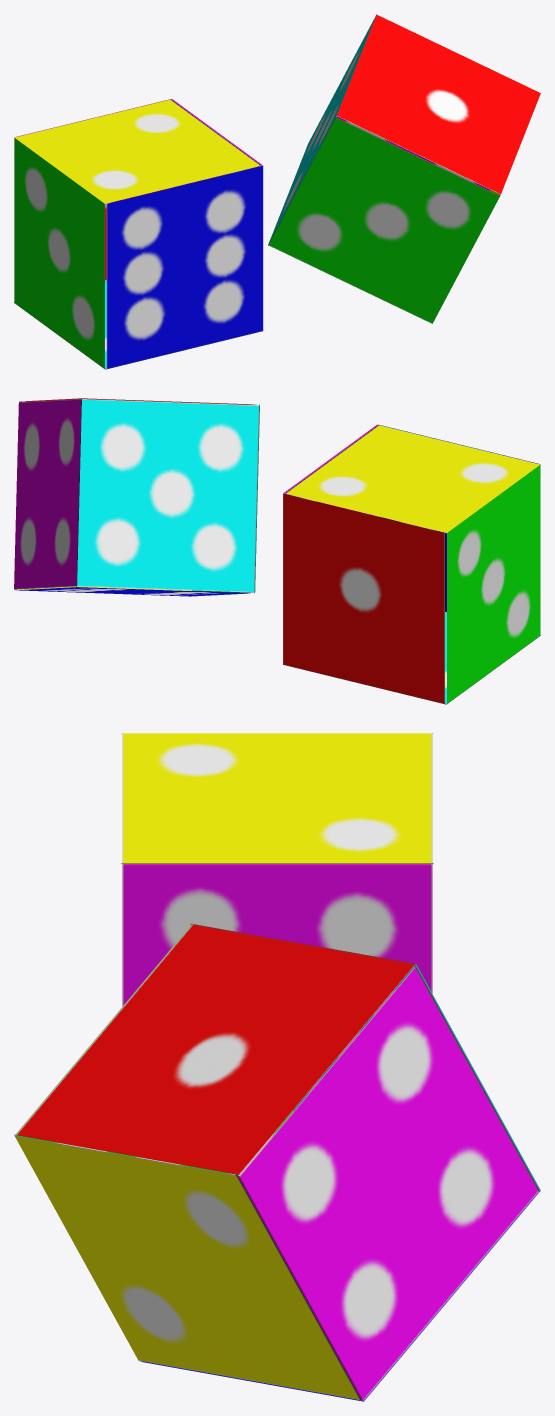
File: dice.obj
The picture shows the model from 3 angles, top to bottom: view 1: azimuth 30°, elevation 25°; view 2: azimuth 150°, elevation 25°; view 3: azimuth 270°, elevation 25°; orthographic projection. The views are drawn at different scales.
Visible parts, largest first — view 1: Die, RollingDie; view 2: Die, RollingDie; view 3: RollingDie, Die.
Part boxes in pixels (left/top/right/bottom): Die: left=14, top=99, right=263, bottom=369; RollingDie: left=268, top=14, right=540, bottom=323; Die: left=283, top=424, right=540, bottom=704; RollingDie: left=14, top=398, right=259, bottom=596; RollingDie: left=14, top=923, right=540, bottom=1401; Die: left=121, top=733, right=433, bottom=1006.
Size of the model in its own units: 5.95 by 2.96 by 3.37.
Materials: 1 (1 with a texture image).
